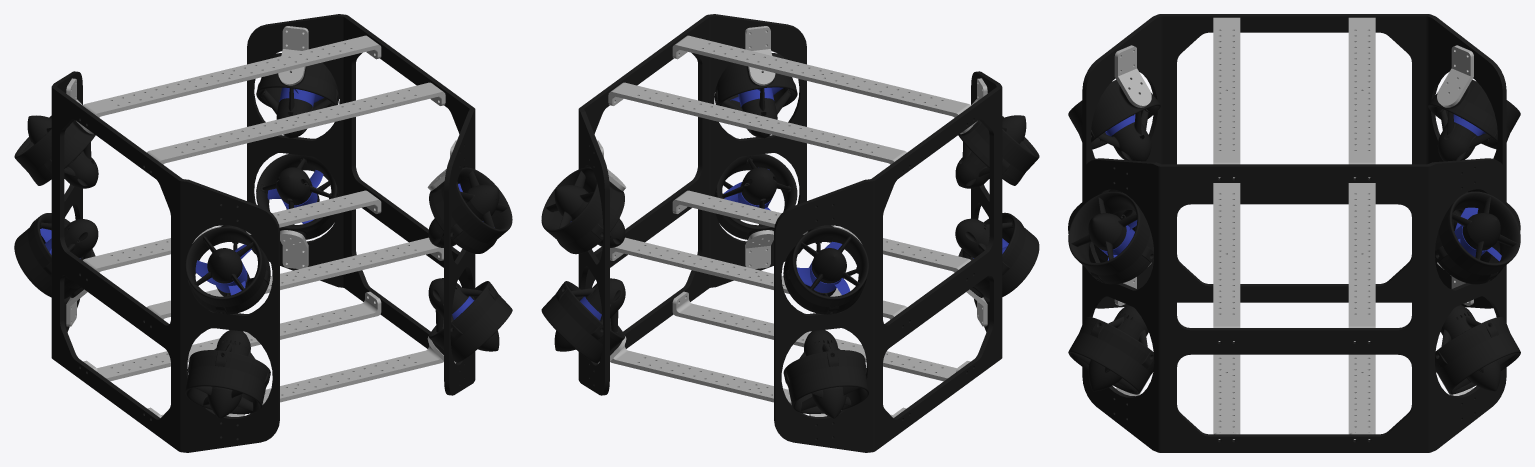
The model's file is ROVTake3ch.glb.
3 views of the same model, side by side, from view 1: azimuth 30°, elevation 25°; view 2: azimuth 150°, elevation 25°; view 3: azimuth 270°, elevation 25° (orthographic). The views are drawn at different scales.
Parts seen in each view (by area): view 1: color-15, color-4, color-16; view 2: color-15, color-4, color-16; view 3: color-15, color-4, color-16.
Part boxes in pixels (left/top/right/bottom): color-15: left=14, top=14, right=512, bottom=452; color-4: left=66, top=26, right=456, bottom=417; color-16: left=40, top=87, right=483, bottom=319; color-15: left=541, top=14, right=1039, bottom=452; color-4: left=597, top=26, right=987, bottom=417; color-16: left=571, top=87, right=1008, bottom=320; color-15: left=1068, top=14, right=1520, bottom=452; color-4: left=1114, top=17, right=1473, bottom=439; color-16: left=1100, top=114, right=1501, bottom=261.
Size of the model in its own units: 0.4314 by 0.35 by 0.5016.
